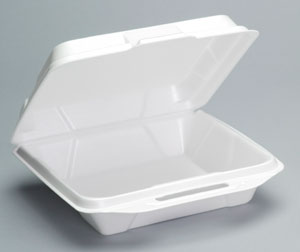Nonrec_Plastic: (8, 1, 285, 225)
